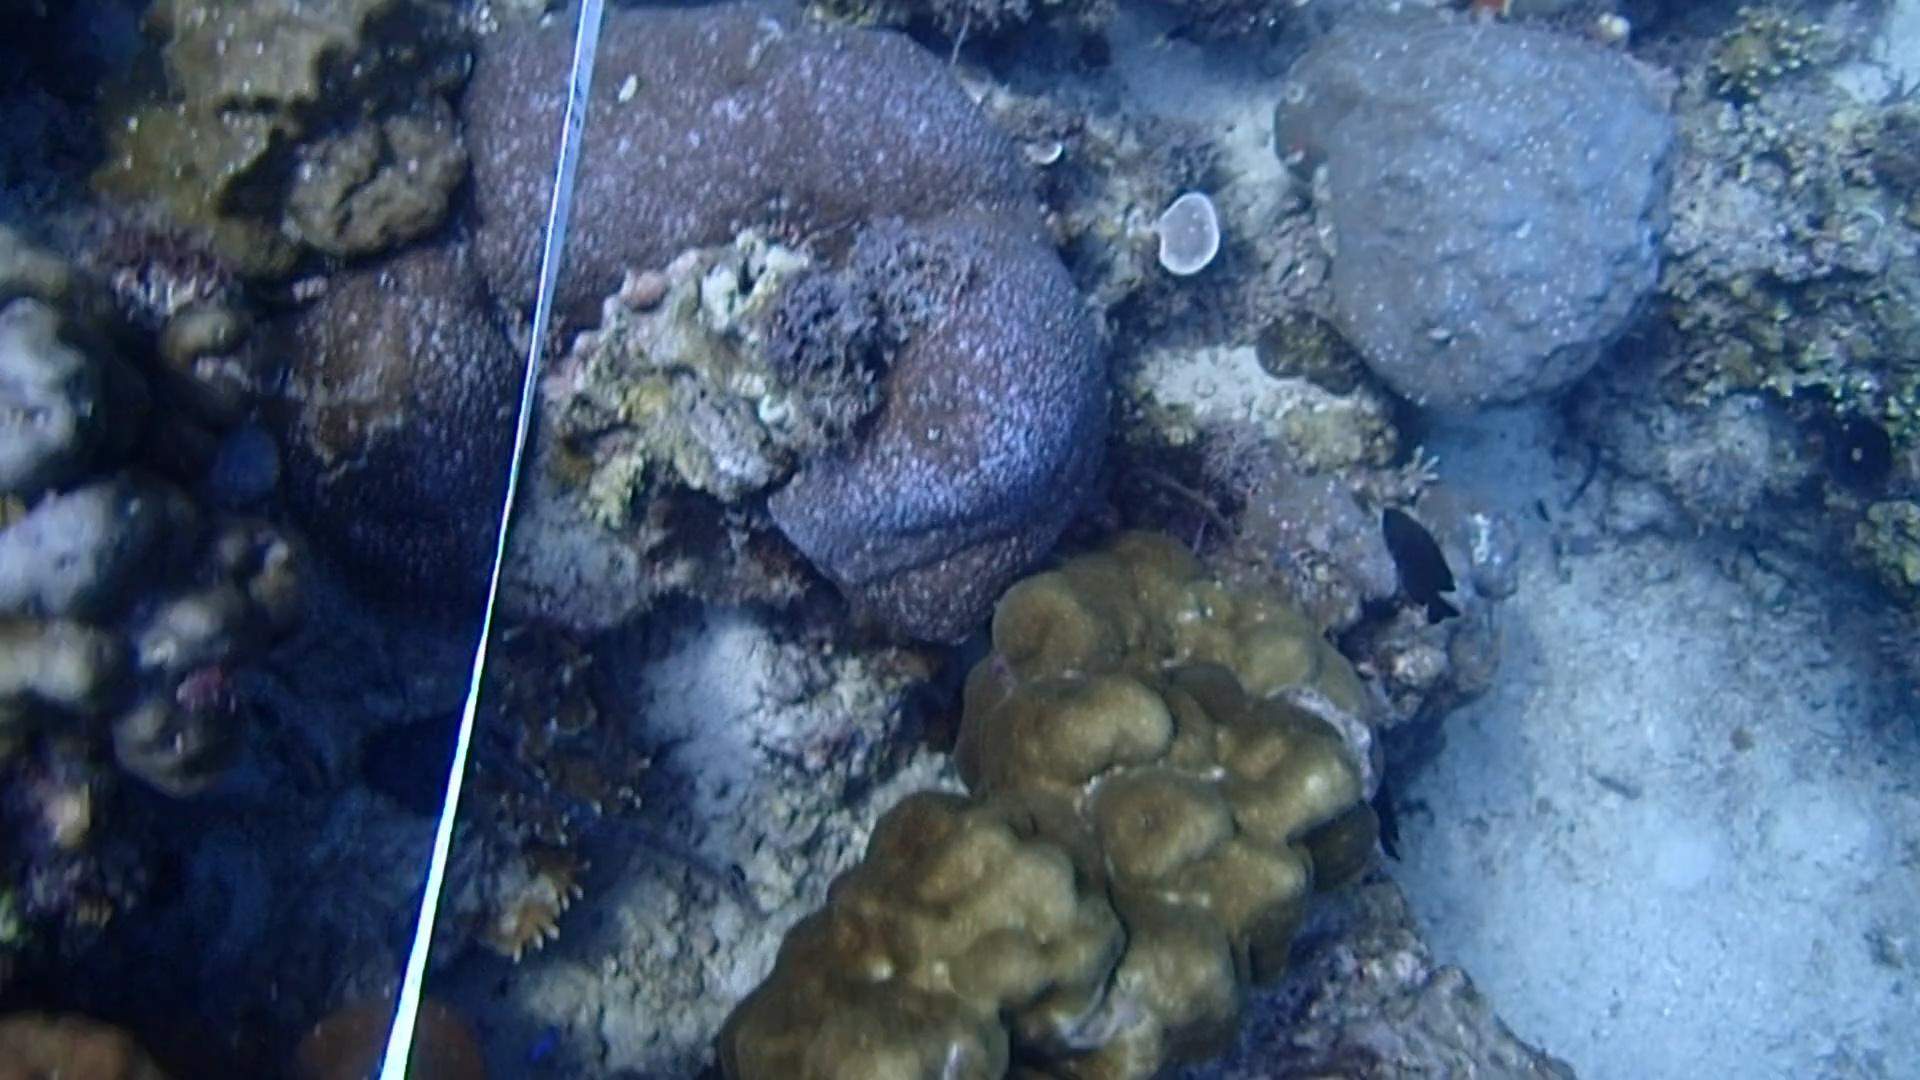Dark Fish: (1373, 495, 1472, 636)
